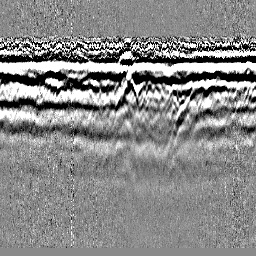cavity: (115, 73, 139, 106)
